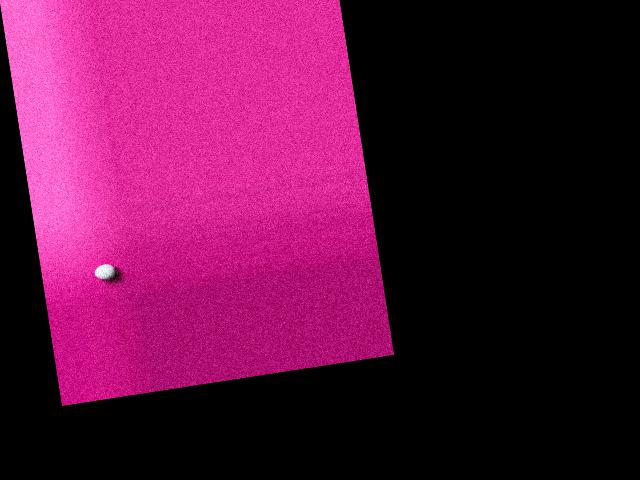egg: (93, 262, 116, 280)
